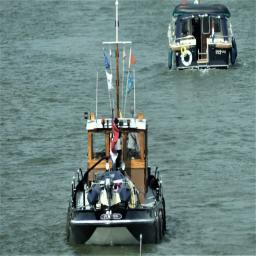tugboat: (66, 3, 168, 255)
